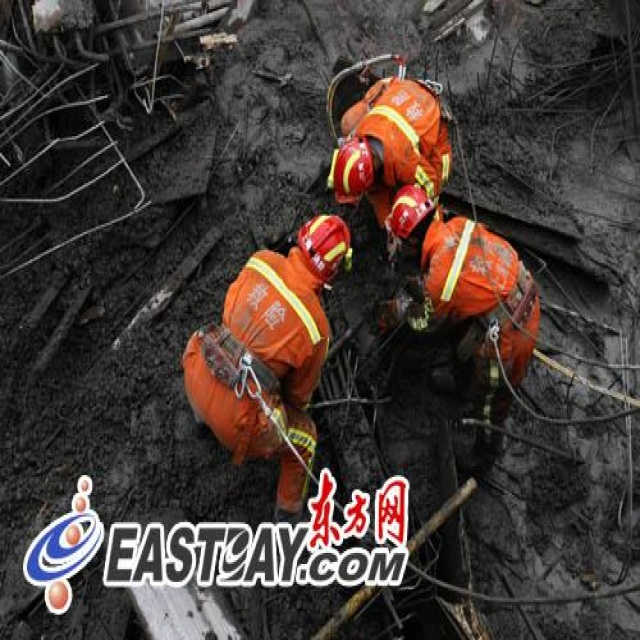Helmet: (289, 202, 358, 296), (380, 179, 445, 258), (319, 132, 380, 210)
Reflective vest: (184, 253, 325, 438), (352, 60, 455, 176), (430, 216, 535, 327)
